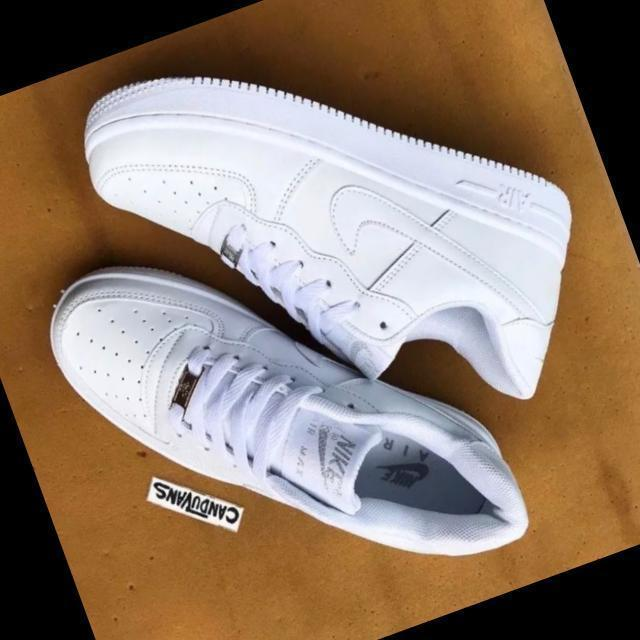nike fake air force: (62, 0, 632, 517), (29, 158, 538, 640)
